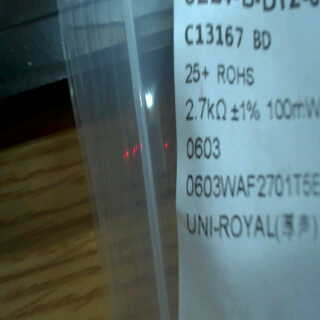2.7kR: (180, 92, 232, 127)
